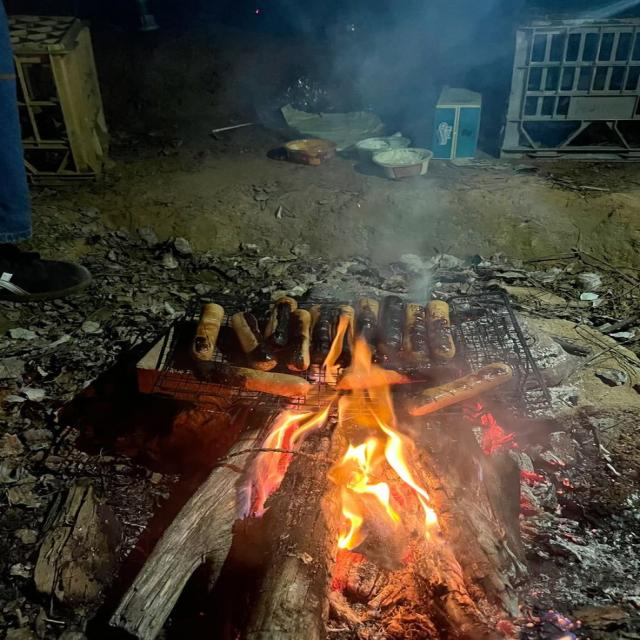fire: (336, 414, 439, 550), (253, 408, 325, 515)
